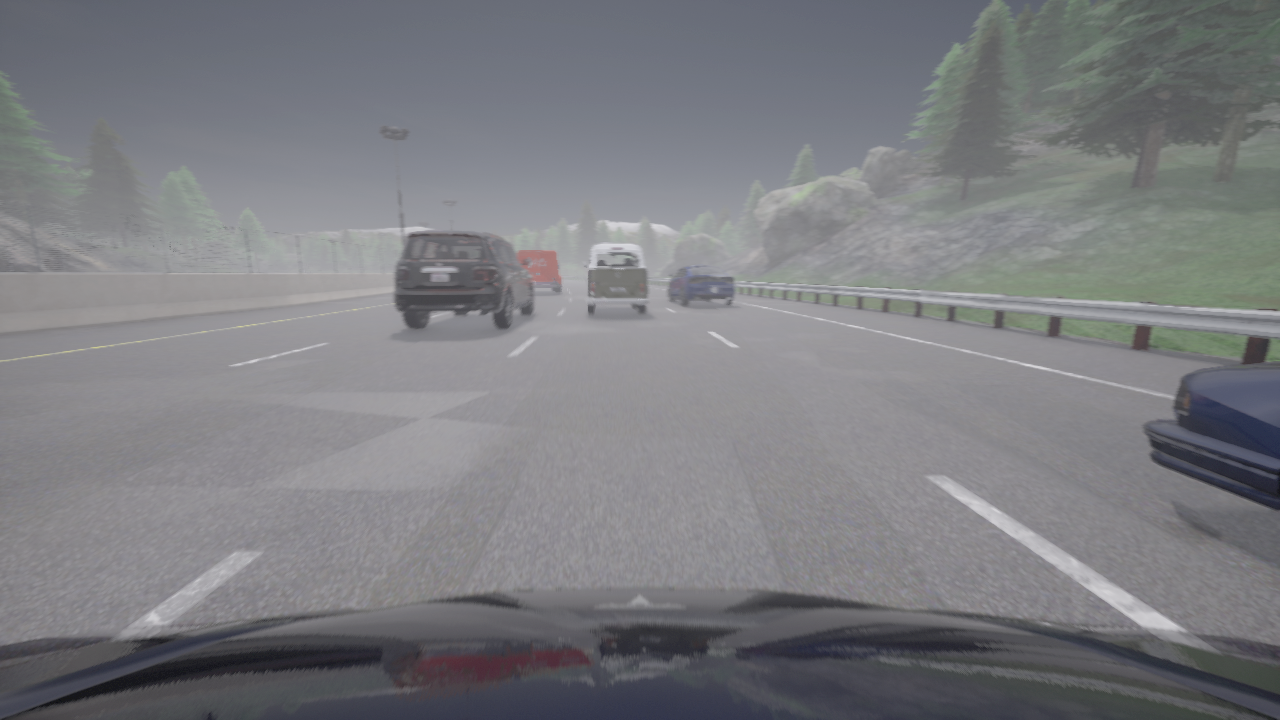cyclist: (0, 588, 1279, 719), (1143, 362, 1279, 511), (394, 232, 533, 329), (583, 243, 648, 314), (668, 265, 735, 305), (518, 251, 561, 293)
